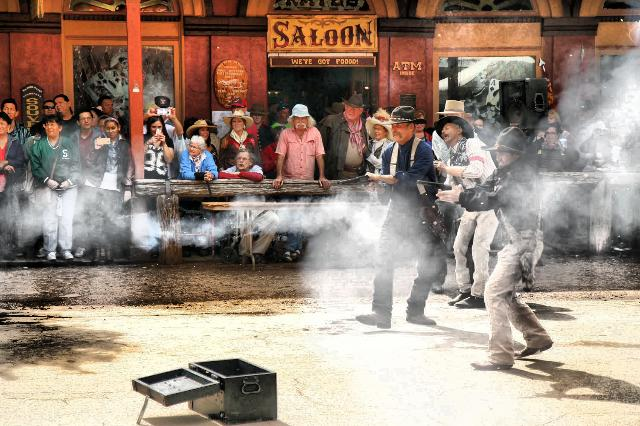pistol: (418, 177, 456, 205), (335, 172, 381, 194)
